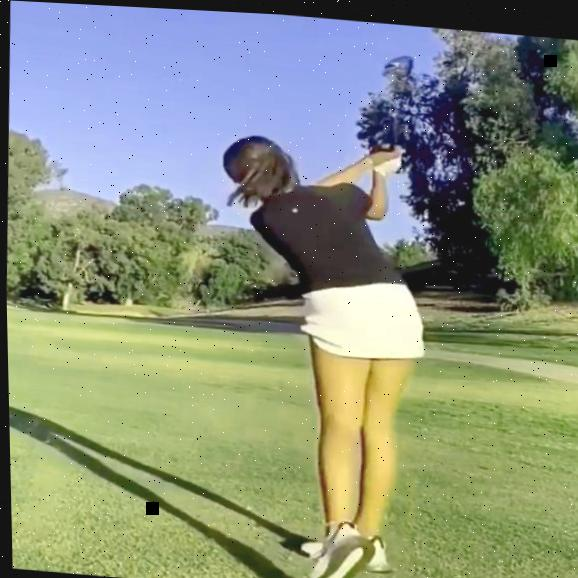ClubHead: (382, 48, 415, 75)
